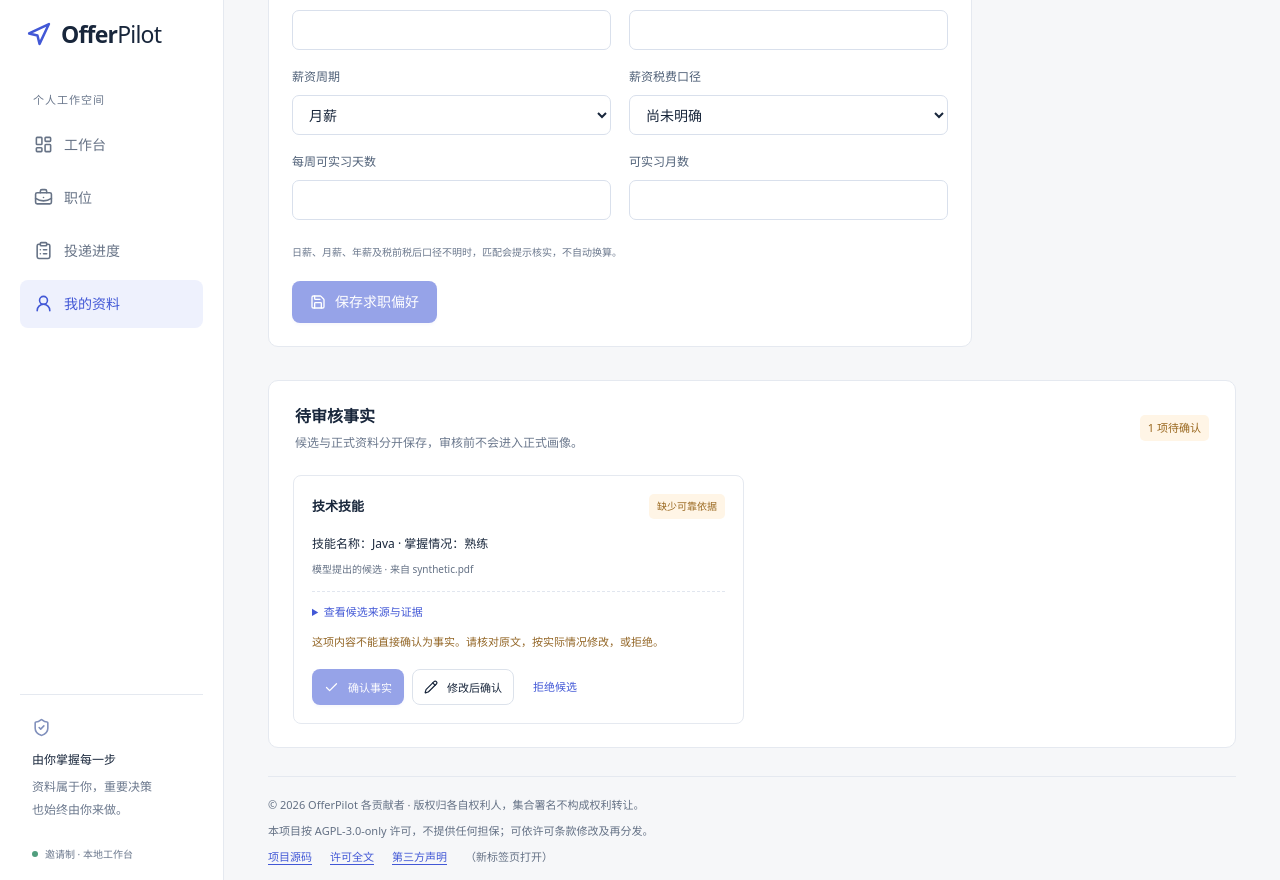
Test: unsupported candidate cannot be confirmed and modifying requires an explicit factual check
(page scrolled)
Check: the button "确认事实" is disabled, box [312,669,404,705]
Click the heading "查看候选来源与证据": (367, 612) [312,603,423,621]
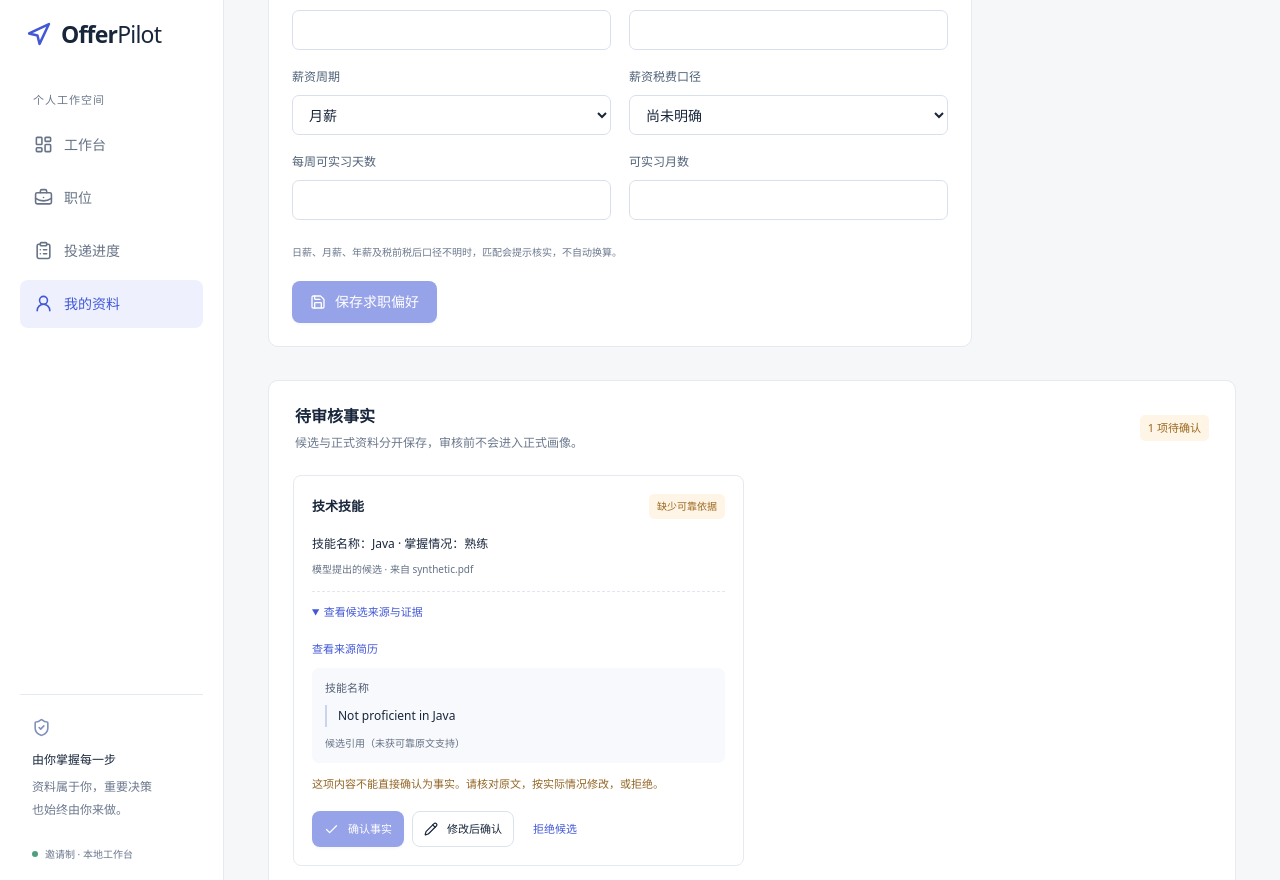
Check: the text "候选引用（未获可靠原文支持）" is shown, box [325,736,465,750]
Click the button "修改后确认": (463, 829) [412,811,514,847]
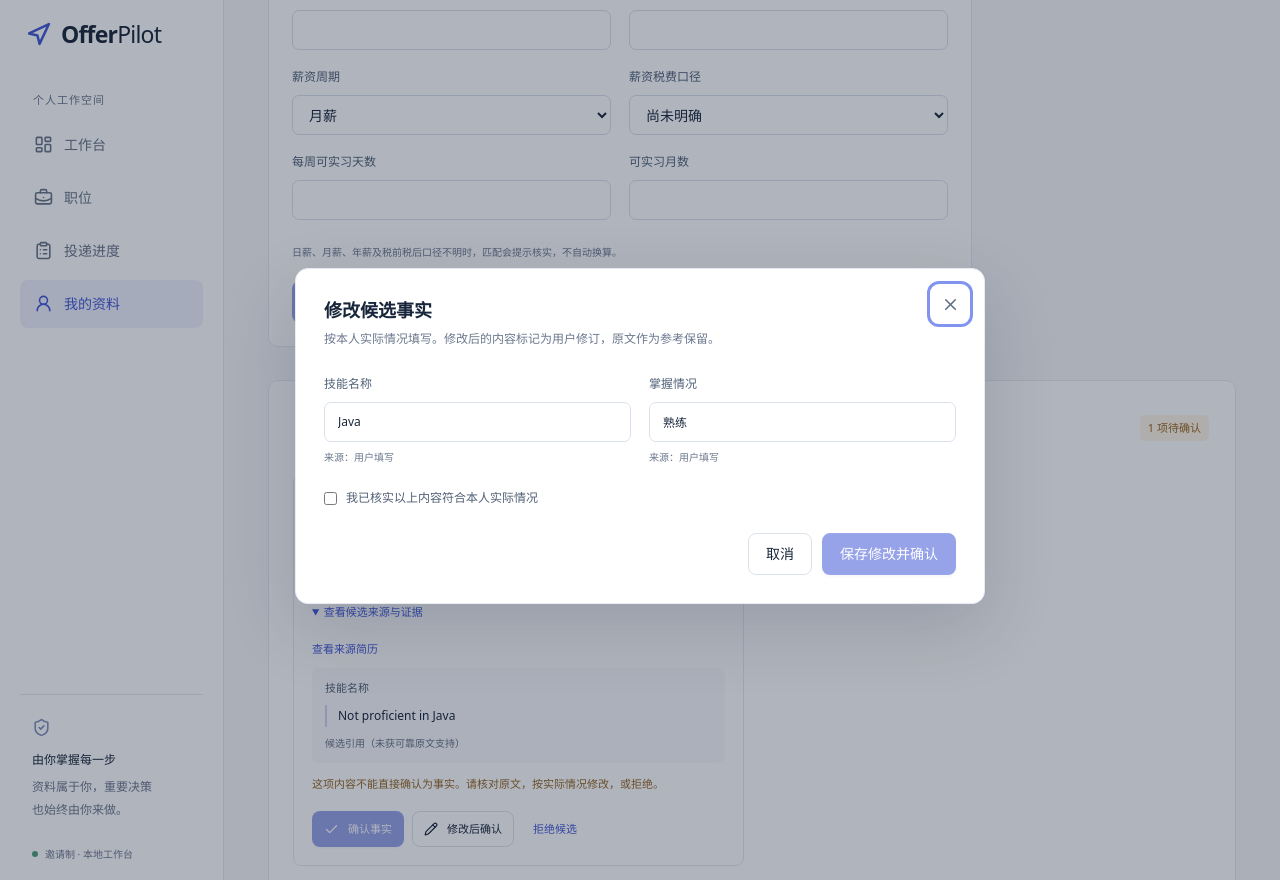
Replace the text in the field labelled "掌握情况" with "尚在学习": (802, 422) [649,402,956,442]
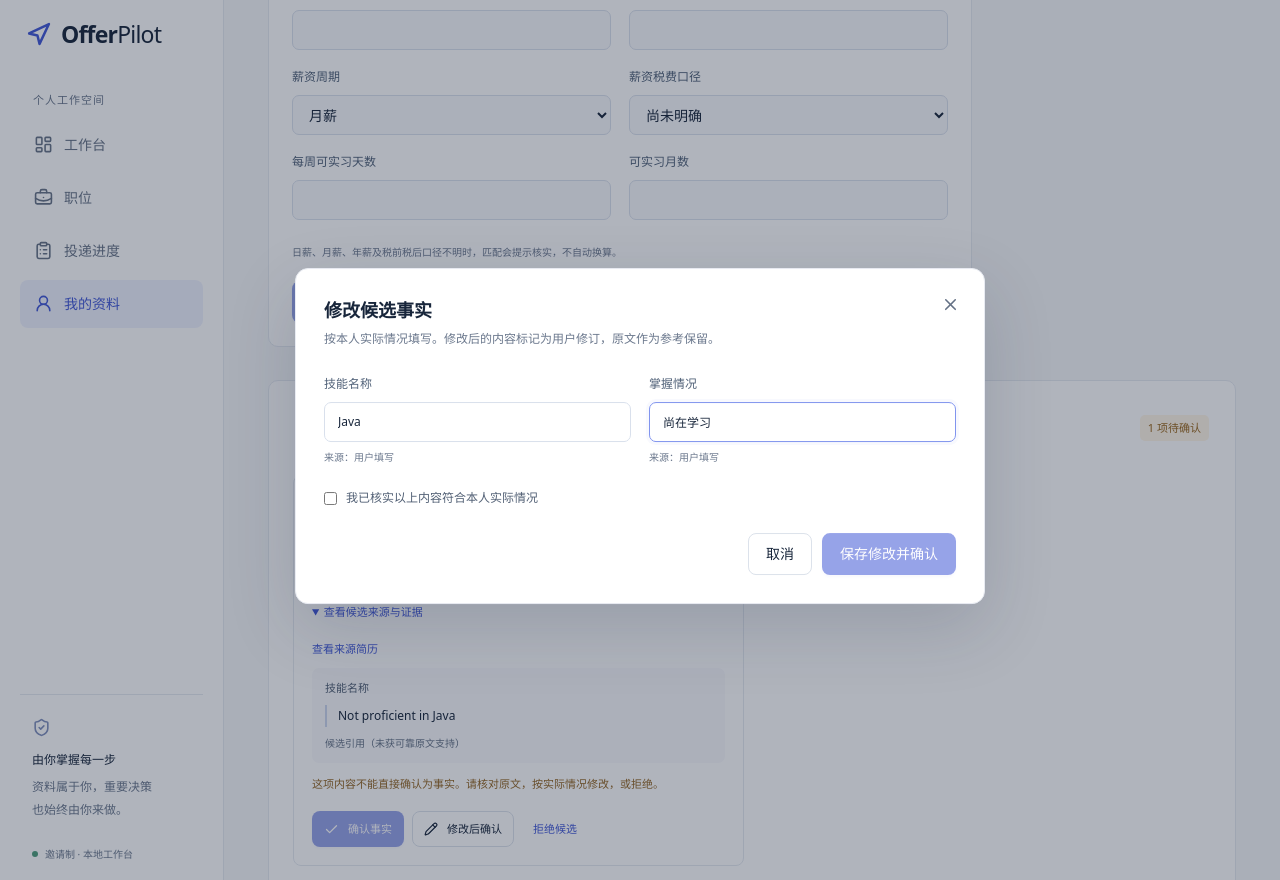
Check: the button "保存修改并确认" is disabled, box [822,533,956,575]
Click the checkbox labelled "我已核实以上内容符合本人实际情况": (330, 499) [324,492,337,505]
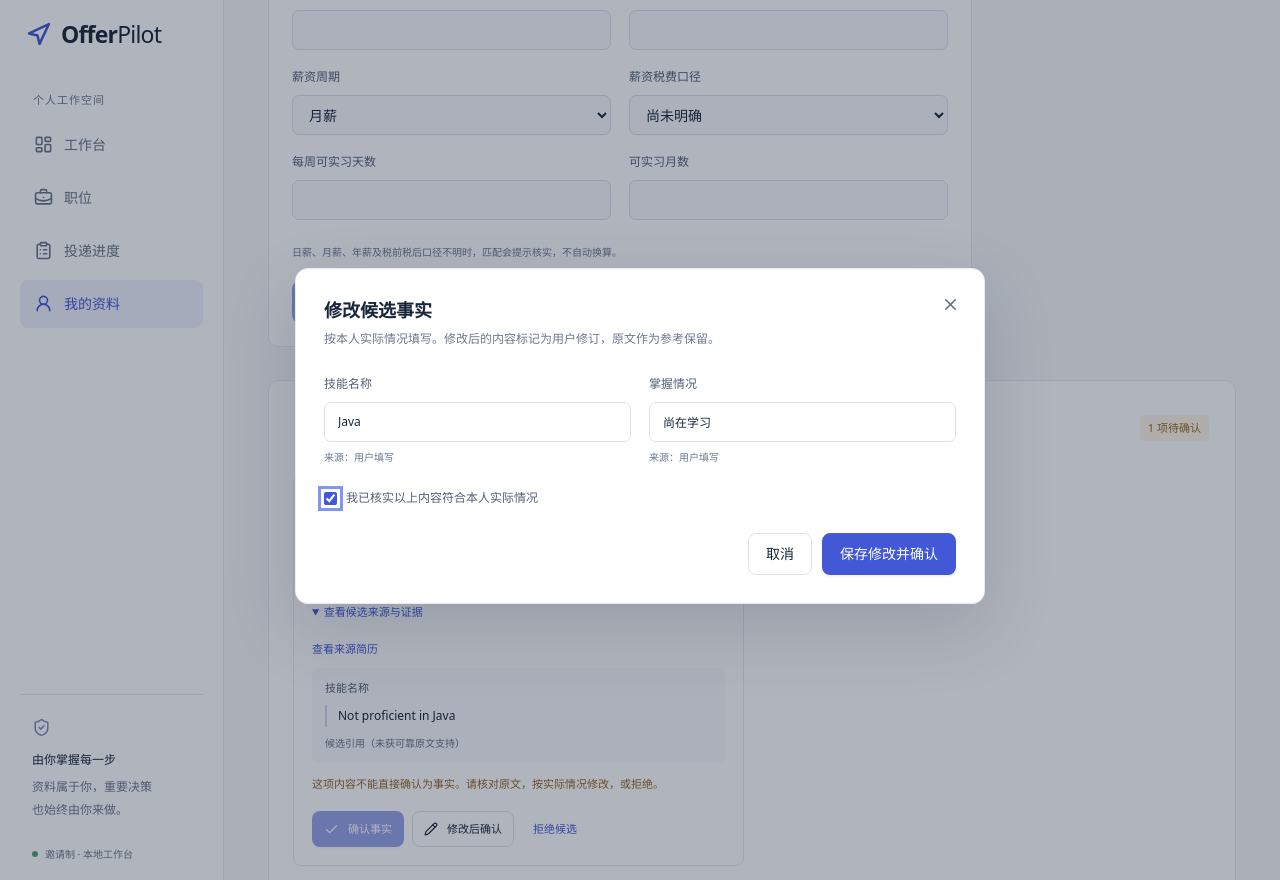
Click the button "保存修改并确认": (889, 554) [822,533,956,575]
(page scrolled)
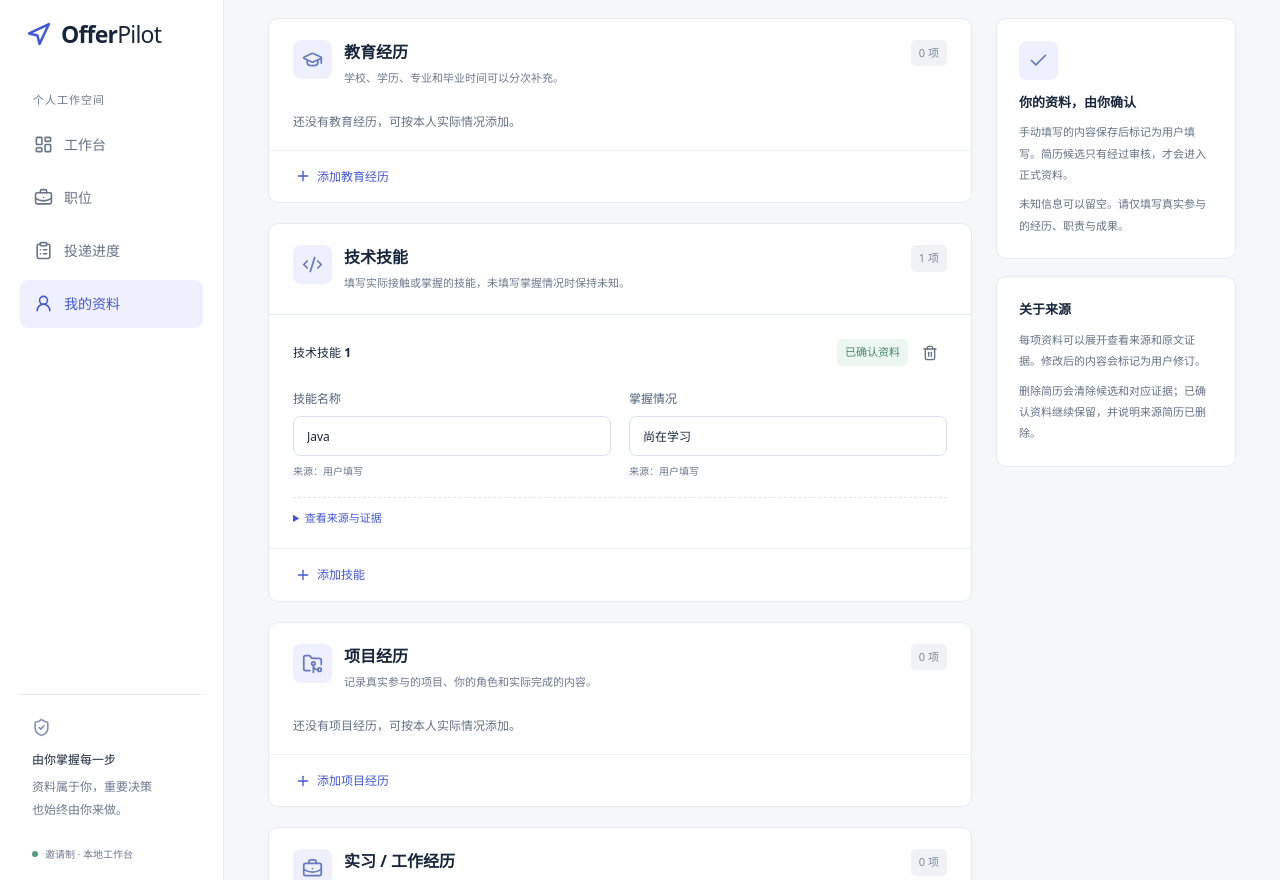
Check: the dialog is gone
Check: the field labelled "掌握情况" holds "尚在学习", box [629,416,947,456]
